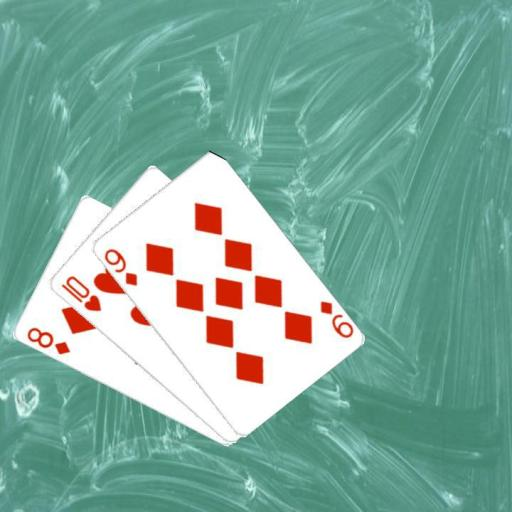10H: (58, 273, 103, 314)
8D: (23, 324, 72, 357)
9D: (316, 297, 355, 340), (100, 245, 139, 287)
